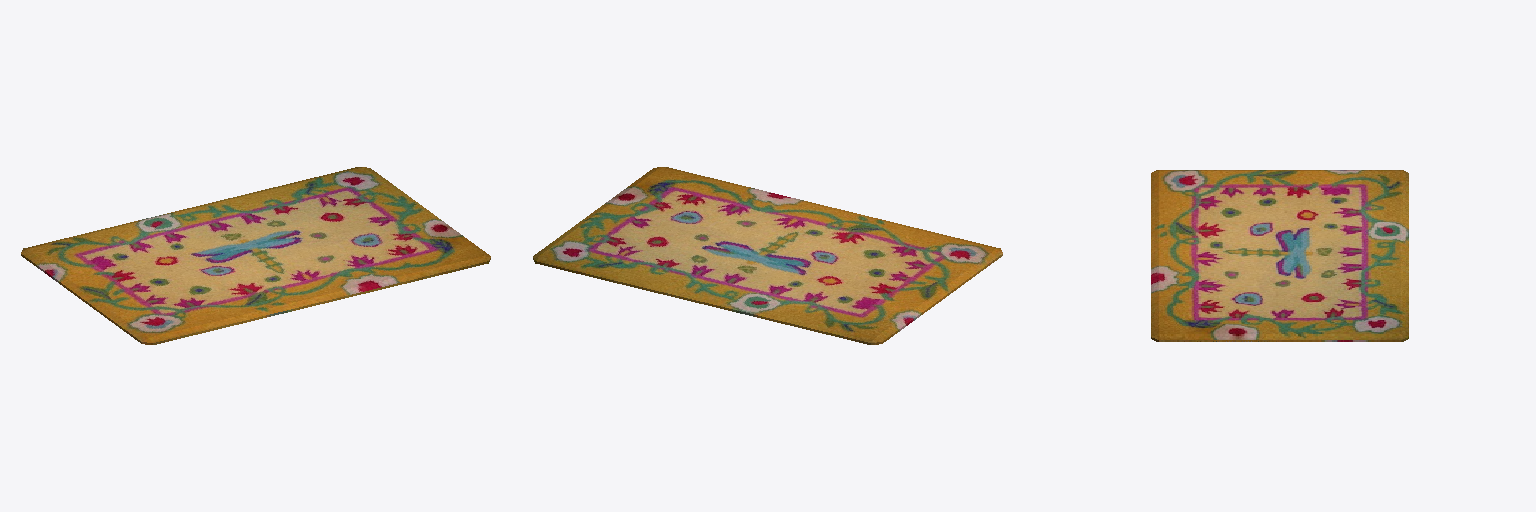
3 views of the same model, side by side, from view 1: azimuth 30°, elevation 25°; view 2: azimuth 150°, elevation 25°; view 3: azimuth 270°, elevation 25° (orthographic).
Parts seen in each view (by area): view 1: Bathmat; view 2: Bathmat; view 3: Bathmat.
Part boxes in pixels (x1,y1,x2,y2): Bathmat: (21,167,490,344); Bathmat: (533,167,1002,344); Bathmat: (1151,170,1408,341).
Bounding box in the file's own units: 73.37 × 1.42 × 46.99.
1 materials, 1 textured.